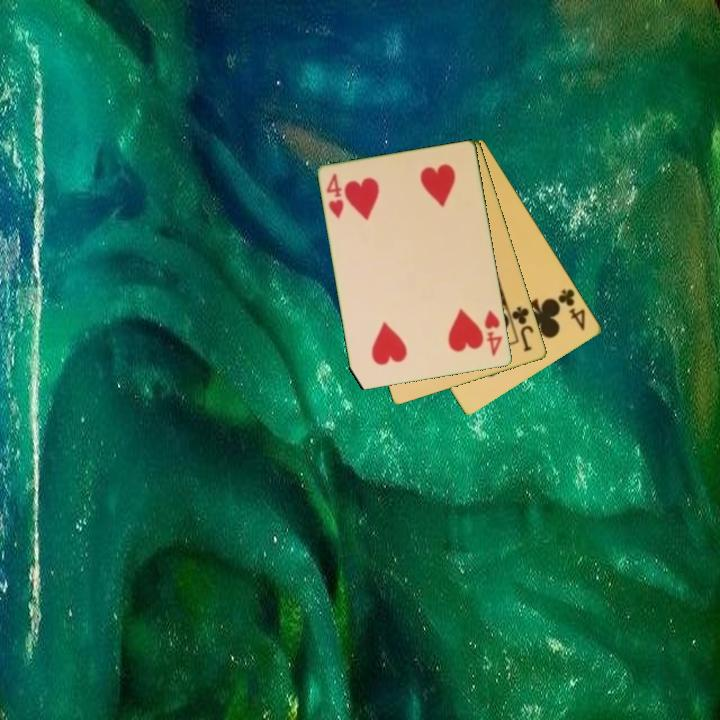4c: (555, 285, 589, 334)
4h: (481, 307, 506, 360), (323, 170, 347, 221)
Jc: (508, 303, 537, 355)
